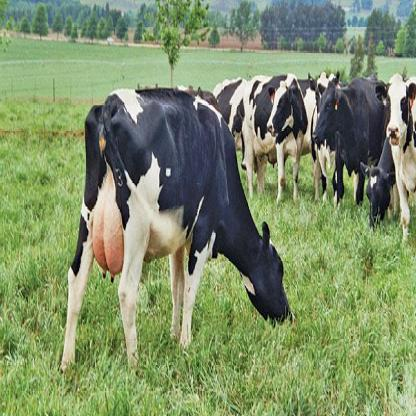cow: (59, 88, 290, 371), (312, 79, 387, 208), (243, 77, 307, 201), (374, 74, 416, 245), (362, 161, 398, 225)
